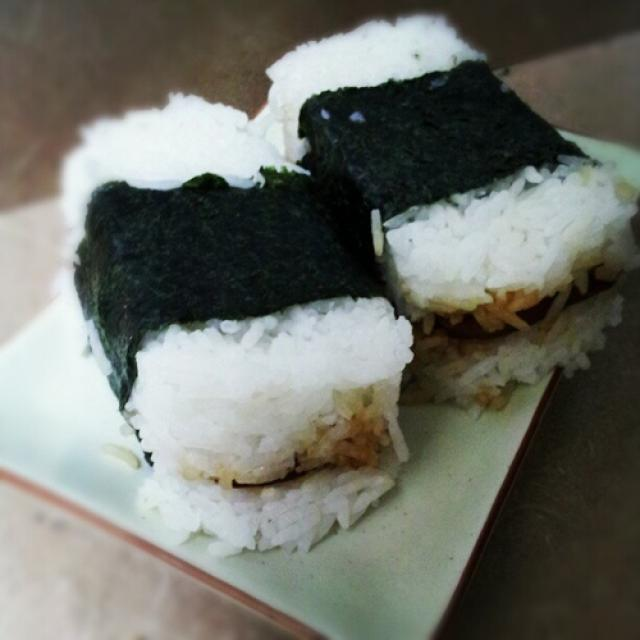寿司卷物: (29, 13, 630, 554)
